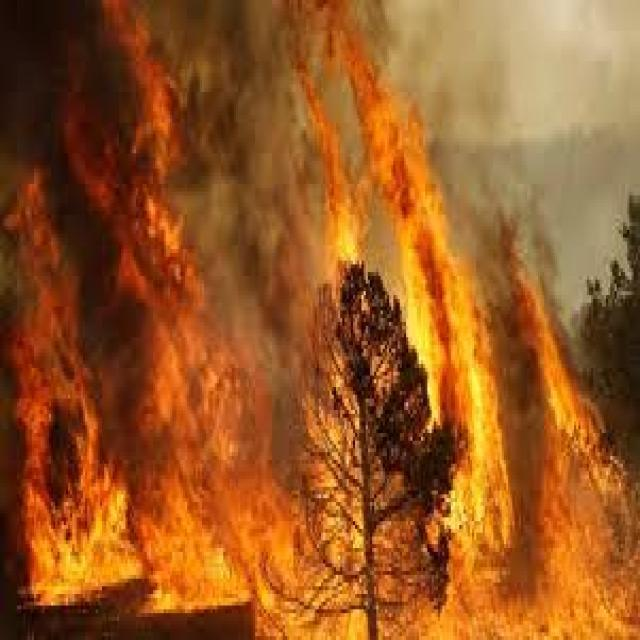Fire: (445, 255, 640, 640), (17, 324, 268, 606), (442, 2, 640, 209), (303, 9, 431, 262), (19, 188, 187, 310)
Smoke: (192, 4, 288, 314), (2, 0, 100, 176)
